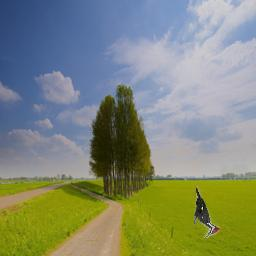Woodpecker: (194, 186, 220, 238)
